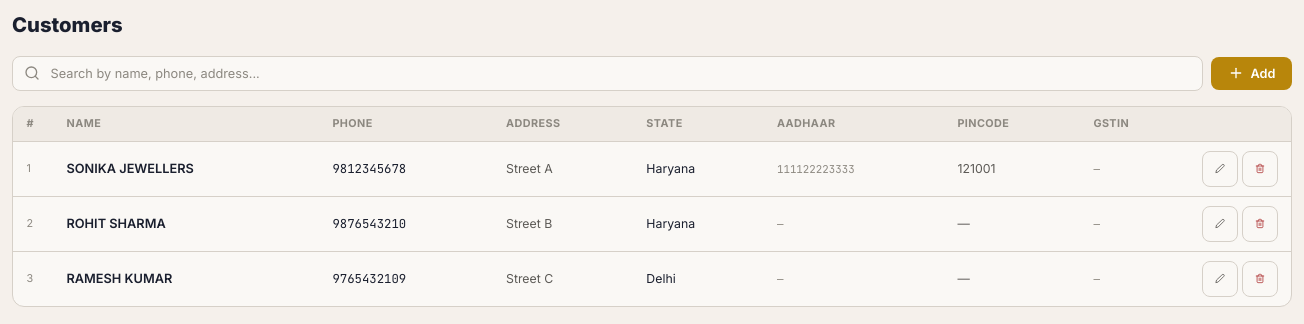
Scenario: CustomersPage search › shows all customers again when the search is cleared
Check: the text "SONIKA JEWELLERS" is shown, box [53,141,319,196]
Type "ROHIT" into the field with placeholder "Search by name, phone, address...".
click(608, 73); type("ROHIT")  # box [12,56,1203,91]
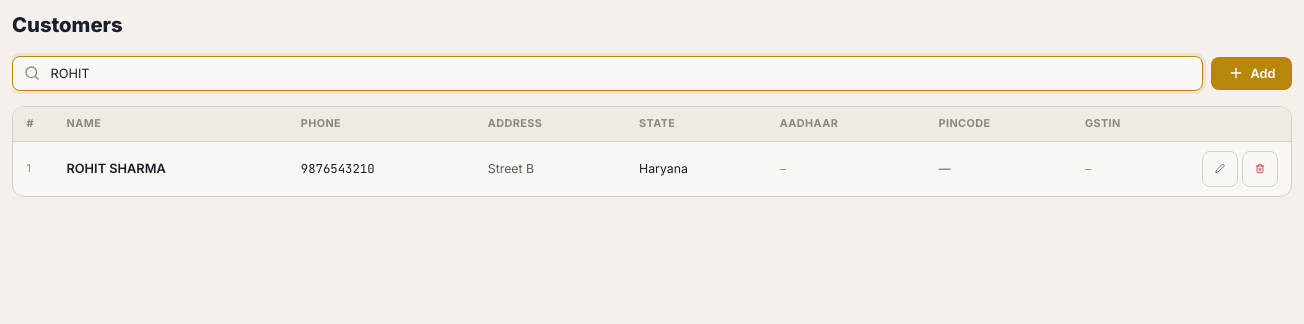
Clear the field with placeholder "Search by name, phone, address..." at (608, 73), box [12,56,1203,91]
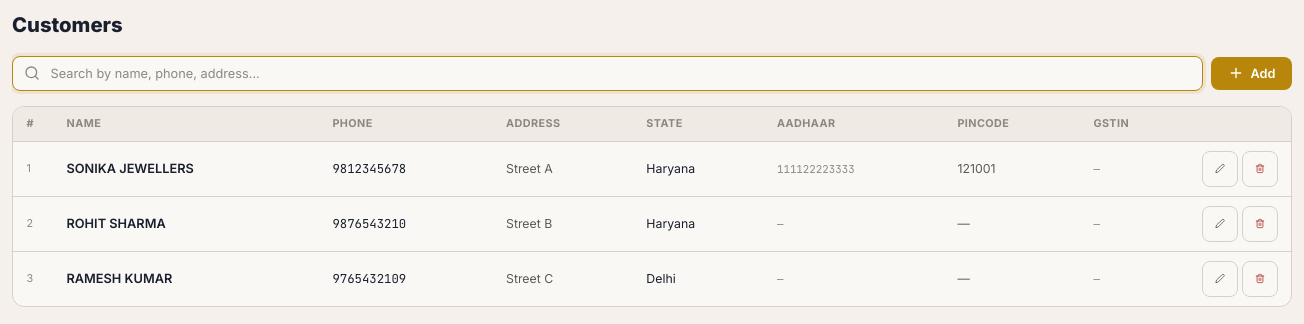
Check: the text "SONIKA JEWELLERS" is shown, box [53,141,319,196]
Check: the text "RAMESH KUMAR" is shown, box [53,251,319,306]
